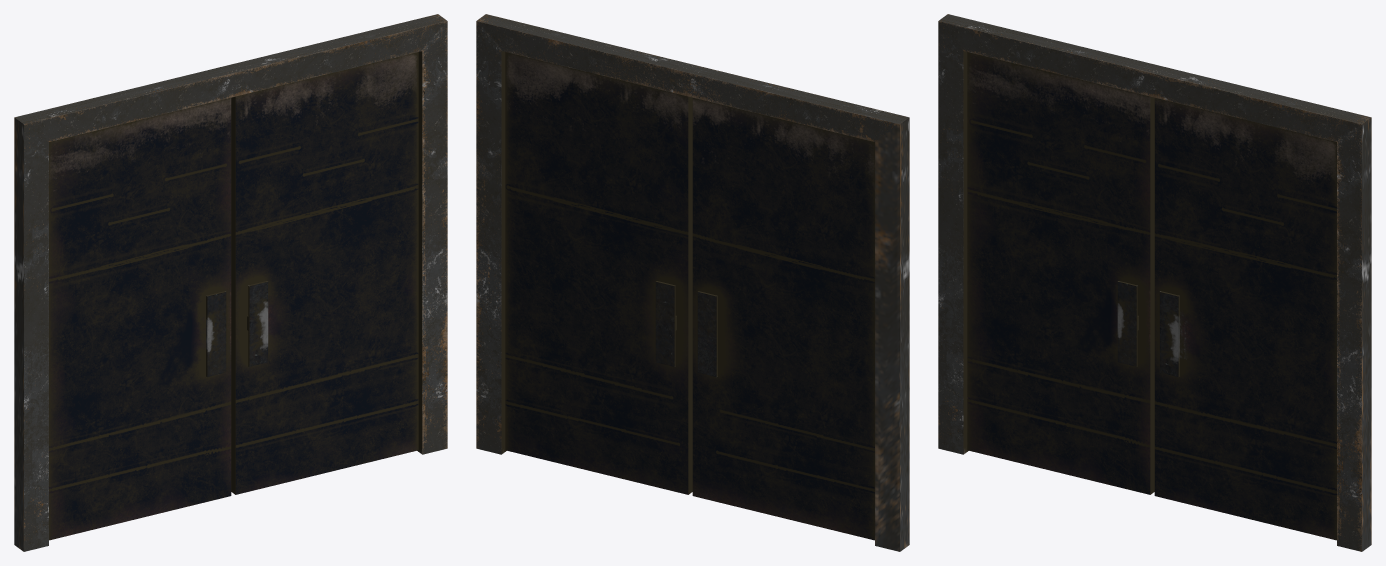
The model's file is door.glb.
The picture shows the model from 3 angles, left to right: view 1: azimuth 30°, elevation 25°; view 2: azimuth 150°, elevation 25°; view 3: azimuth 330°, elevation 25°; orthographic projection.
Parts seen in each view (by area): view 1: R, L, Fr; view 2: R, L, Fr; view 3: L, R, Fr.
Boxes of the visible parts, <box> form: R: <box>231,52,418,494</box>; L: <box>49,98,231,540</box>; Fr: <box>14,14,447,551</box>; R: <box>505,52,692,494</box>; L: <box>692,98,874,540</box>; Fr: <box>476,14,909,551</box>; L: <box>967,52,1154,494</box>; R: <box>1154,98,1336,540</box>; Fr: <box>938,14,1371,551</box>.
Size of the model in its own units: 2.55 by 2.46 by 0.1422.
Materials: 1 (1 with a texture image).
